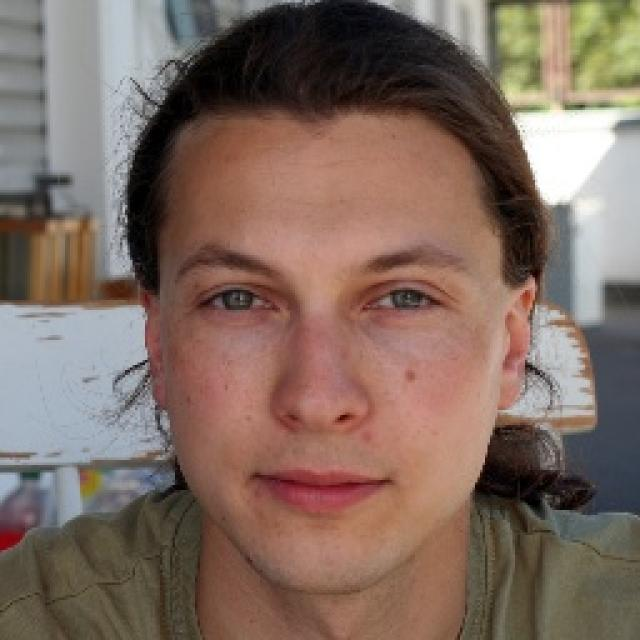earlobe: (500, 275, 537, 409), (140, 286, 168, 410)
